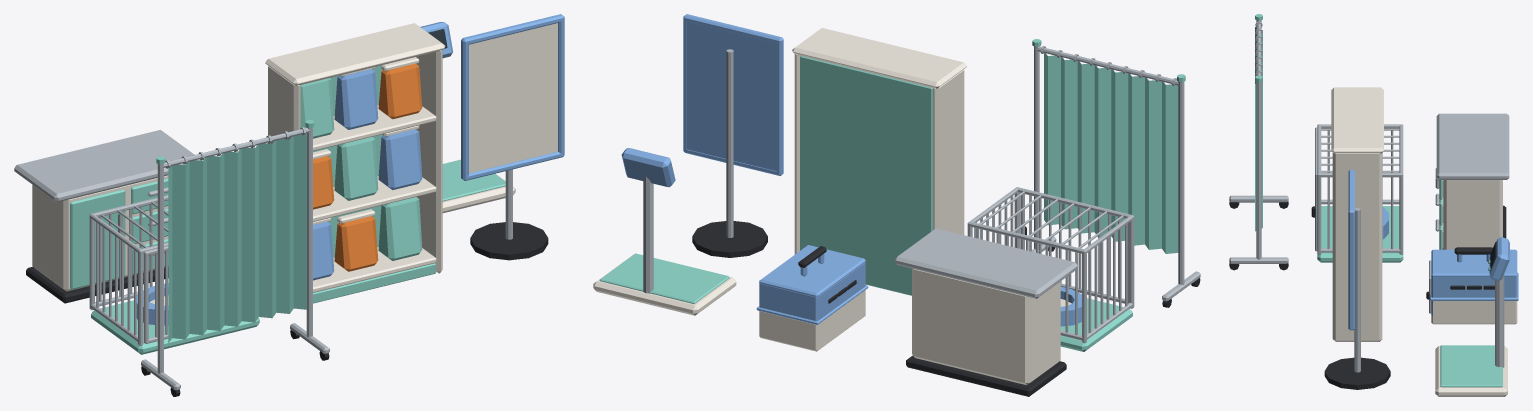
Rendered from low-poly-vet-clinic.glb.
The picture shows the model from 3 angles, left to right: view 1: azimuth 30°, elevation 25°; view 2: azimuth 150°, elevation 25°; view 3: azimuth 270°, elevation 25°; orthographic projection. The views are drawn at different scales.
Visible parts, largest first — view 1: Curtain, FoodShelf_Frame, ExamTable_Body, Poster, DogCage_Frame, PosterStand_Frame, PrivacyScreen_Frame, Door, FoodBag_3, FoodBag_5, FoodBag_6, FoodBag_8 (+11 smaller); view 2: FoodShelf_Frame, Curtain, ExamTable_Body, PosterStand_Frame, DogCage_Frame, PetCarrier_Body, PetScale_Base, PrivacyScreen_Frame, CageDoor, Display, DogBed; view 3: FoodShelf_Frame, ExamTable_Body, PetCarrier_Body, PetScale_Base, DogCage_Frame, PosterStand_Frame, PrivacyScreen_Frame, Curtain, Display, CageDoor.
Part boxes in pixels (x1,y1,x2,y2): Curtain: (165, 127, 306, 342); FoodShelf_Frame: (265, 23, 445, 303); ExamTable_Body: (14, 130, 202, 303); Poster: (469, 23, 557, 173); DogCage_Frame: (89, 195, 259, 354); PosterStand_Frame: (461, 14, 564, 260); PrivacyScreen_Frame: (141, 120, 329, 396); Door: (70, 189, 125, 289); FoodBag_3: (378, 197, 422, 260); FoodBag_5: (334, 137, 378, 200); FoodBag_6: (378, 125, 422, 190); FoodBag_8: (334, 67, 378, 129); FoodShelf_Frame: (792, 28, 966, 295); Curtain: (1040, 46, 1178, 253); ExamTable_Body: (894, 228, 1077, 396); PosterStand_Frame: (683, 14, 783, 257); DogCage_Frame: (967, 187, 1134, 351); PetCarrier_Body: (756, 245, 868, 351); PetScale_Base: (593, 177, 736, 315); PrivacyScreen_Frame: (1032, 39, 1200, 307); CageDoor: (1020, 194, 1128, 303); Display: (621, 148, 675, 187); DogBed: (1060, 286, 1081, 326); FoodShelf_Frame: (1331, 87, 1383, 341); ExamTable_Body: (1436, 113, 1509, 249); PetCarrier_Body: (1430, 247, 1518, 324); PetScale_Base: (1435, 274, 1507, 396); DogCage_Frame: (1317, 124, 1403, 262); PosterStand_Frame: (1324, 170, 1390, 389); PrivacyScreen_Frame: (1229, 14, 1288, 270); Curtain: (1255, 21, 1262, 231); Display: (1488, 237, 1509, 280); CageDoor: (1311, 127, 1317, 251).
Bounding box in the file's own units: 13.73 × 6.5 × 8.75.
